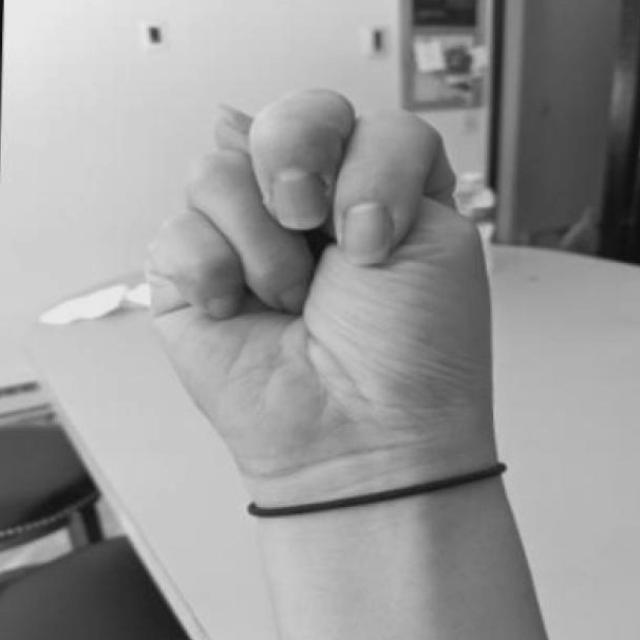N: (142, 82, 589, 504)
